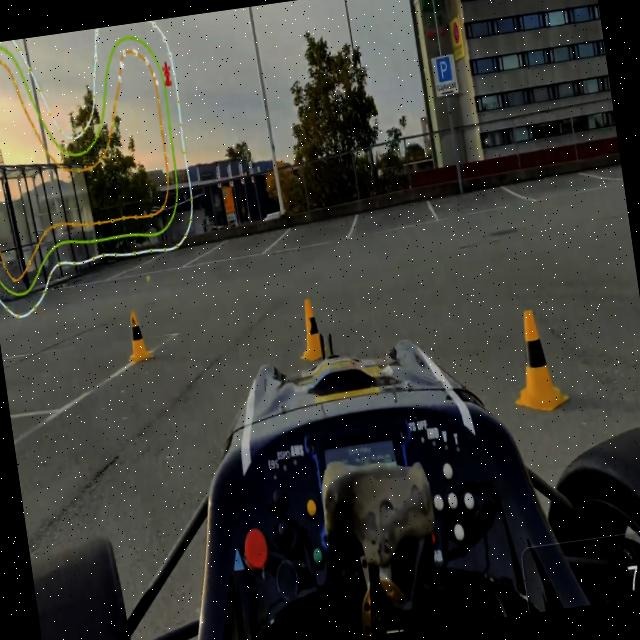yellow_cone: (503, 302, 572, 417), (292, 294, 330, 362), (124, 309, 154, 366)
